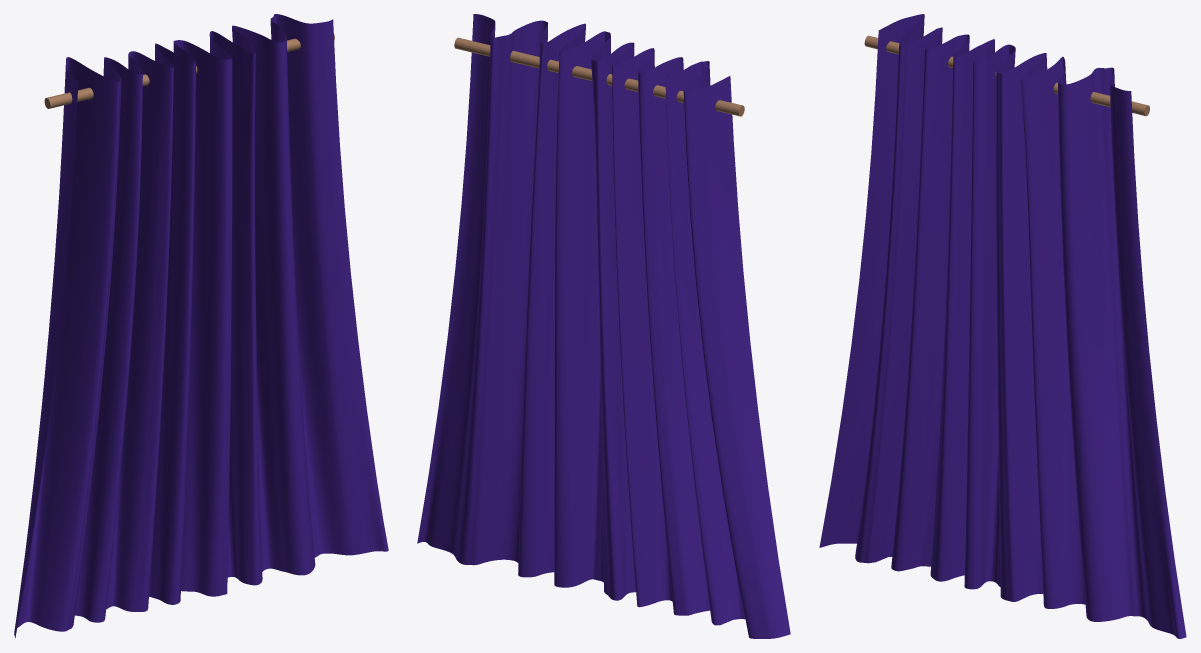
Rendered from curtains.fbx.
The picture shows the model from 3 angles, left to right: view 1: azimuth 30°, elevation 25°; view 2: azimuth 150°, elevation 25°; view 3: azimuth 330°, elevation 25°; orthographic projection.
Parts seen in each view (by area): view 1: loftedSurface1, pCylinder1; view 2: loftedSurface1, pCylinder1; view 3: loftedSurface1, pCylinder1.
Boxes of the visible parts, <box> form: loftedSurface1: <box>14,14,388,637</box>; pCylinder1: <box>44,33,334,108</box>; loftedSurface1: <box>417,14,790,638</box>; pCylinder1: <box>454,37,744,116</box>; loftedSurface1: <box>819,14,1186,638</box>; pCylinder1: <box>864,35,1149,116</box>.
Bounding box in the file's own units: 1346 × 1882 × 280.
